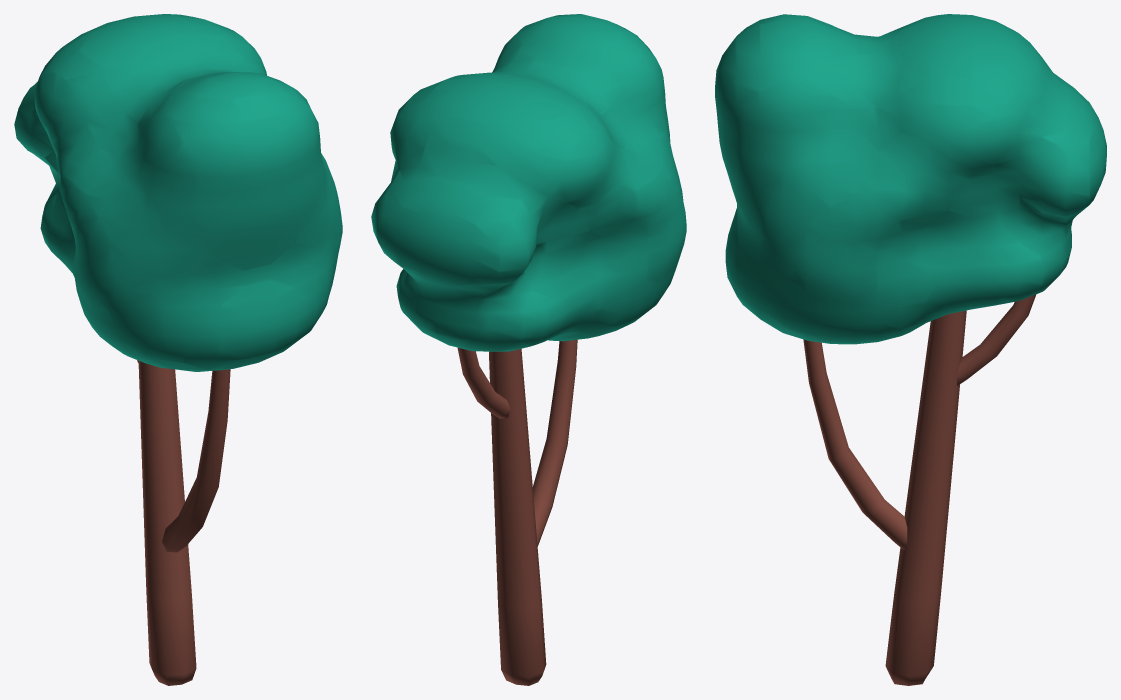
File: treeDef.fbx
3 renders of one model, left to right at view 1: azimuth 30°, elevation 25°; view 2: azimuth 150°, elevation 25°; view 3: azimuth 270°, elevation 25°, orthographic. The views are drawn at different scales.
Parts seen in each view (by area): view 1: Cube.001; view 2: Cube.001; view 3: Cube.001.
Boxes of the visible parts, x1,y1,x2,y2 form: Cube.001: (14, 14, 342, 685); Cube.001: (371, 14, 686, 685); Cube.001: (715, 14, 1106, 685).
Bounding box in the file's own units: 641 × 1588 × 863.
